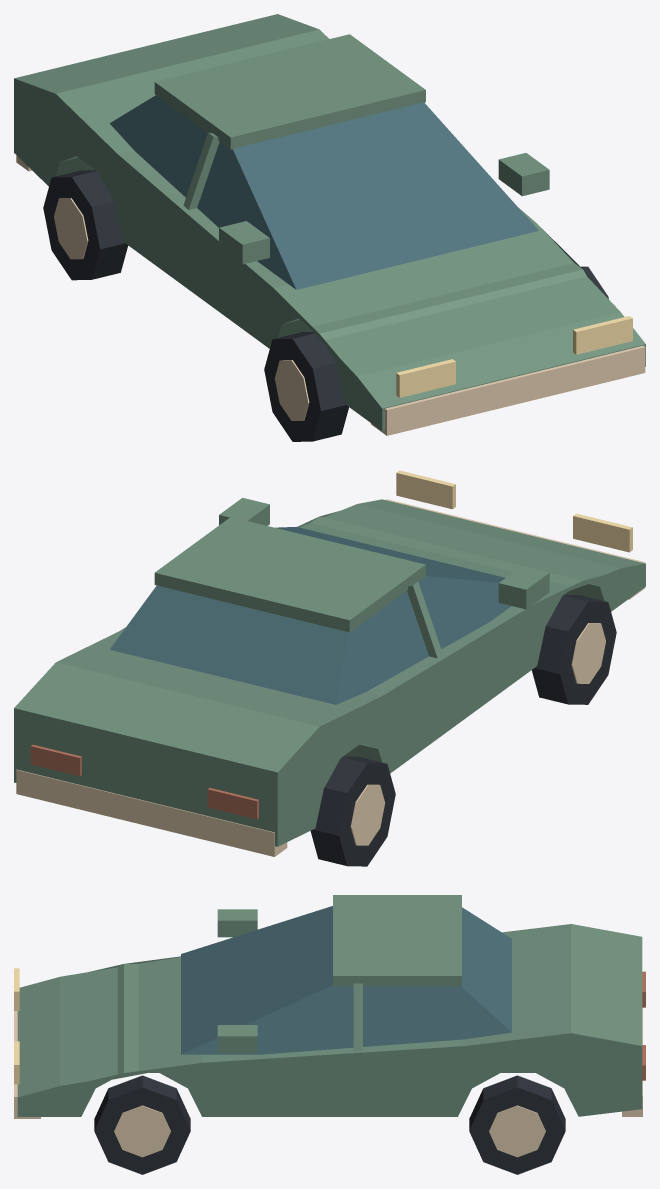
The model's file is car-low-poly.glb.
3 renders of one model, top to bottom at view 1: azimuth 30°, elevation 25°; view 2: azimuth 150°, elevation 25°; view 3: azimuth 270°, elevation 25°, orthographic. The views are drawn at different scales.
Parts seen in each view (by area): view 1: car-low-poly; view 2: car-low-poly; view 3: car-low-poly.
Boxes of the visible parts, bbox=[...] form: car-low-poly: bbox=[14, 14, 645, 441]; car-low-poly: bbox=[14, 470, 645, 866]; car-low-poly: bbox=[14, 895, 645, 1174].
Bounding box in the file's own units: 2.12 × 1.38 × 4.45.
